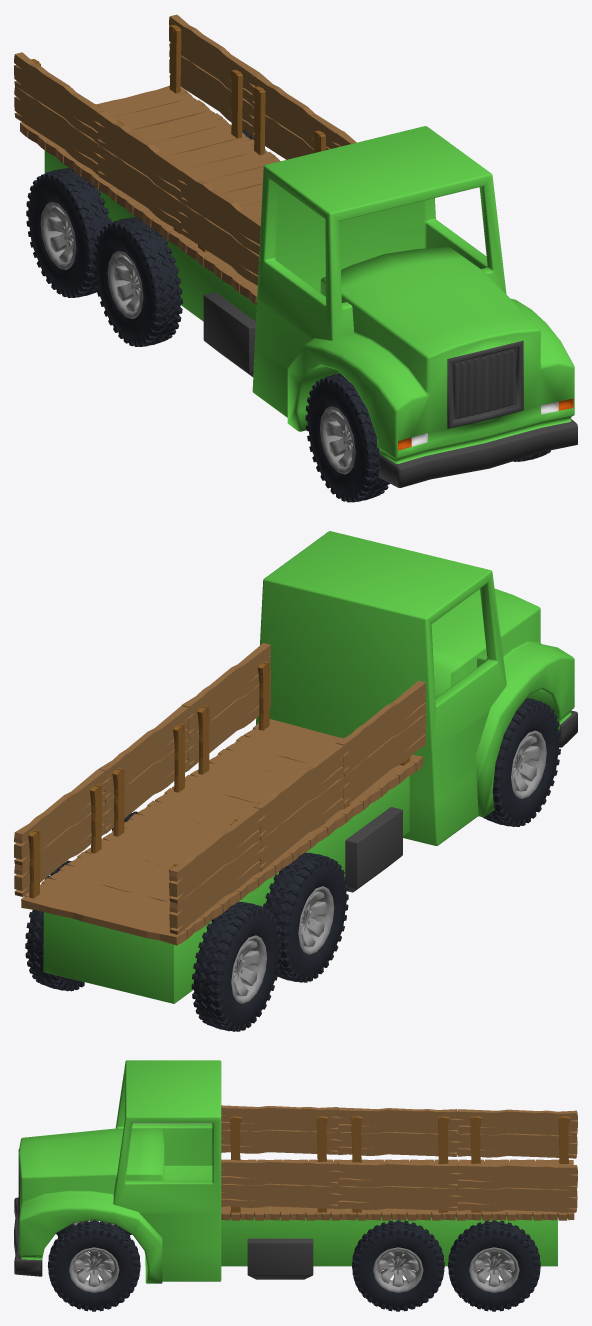
File: truck1.2.fbx
The picture shows the model from 3 angles, top to bottom: view 1: azimuth 30°, elevation 25°; view 2: azimuth 150°, elevation 25°; view 3: azimuth 270°, elevation 25°; orthographic projection. The views are drawn at different scales.
Visible parts, largest first — view 1: Cube, planks, Cube.001, front_wheels.003, front_wheels.004, front_wheels, Cube.002; view 2: planks, Cube.001, Cube.002, Cube, front_wheels.004, front_wheels.003, front_wheels, front_wheels.005; view 3: planks, Cube.001, Cube, Cube.002, front_wheels.002, front_wheels.005, front_wheels.001.
Boxes of the visible parts, x1,y1,x2,y2 form: Cube: (287, 247, 577, 487); planks: (14, 14, 356, 305); Cube.001: (252, 126, 506, 417); front_wheels.003: (93, 217, 182, 346); front_wheels.004: (26, 168, 111, 297); front_wheels: (305, 373, 389, 502); Cube.002: (44, 150, 256, 376); planks: (14, 643, 425, 945); Cube.001: (256, 531, 506, 845); Cube.002: (43, 776, 409, 1003); Cube: (431, 588, 577, 817); front_wheels.004: (191, 901, 281, 1031); front_wheels.003: (263, 852, 348, 982); front_wheels: (483, 698, 561, 826); front_wheels.005: (25, 860, 84, 991); planks: (221, 1105, 577, 1220); Cube.001: (113, 1060, 221, 1281); Cube: (14, 1128, 164, 1283); Cube.002: (221, 1206, 557, 1279); front_wheels.002: (352, 1220, 444, 1311); front_wheels.005: (448, 1220, 540, 1311); front_wheels.001: (48, 1220, 140, 1311).
Bounding box in the file's own units: 301 × 389 × 1043.
